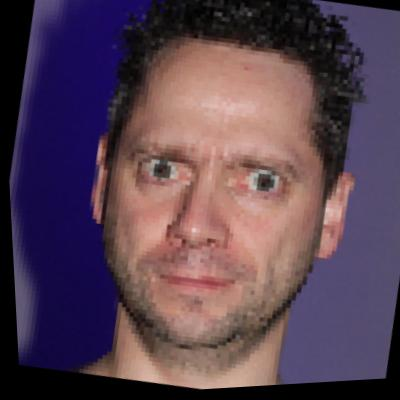surprise: (71, 19, 360, 370)
